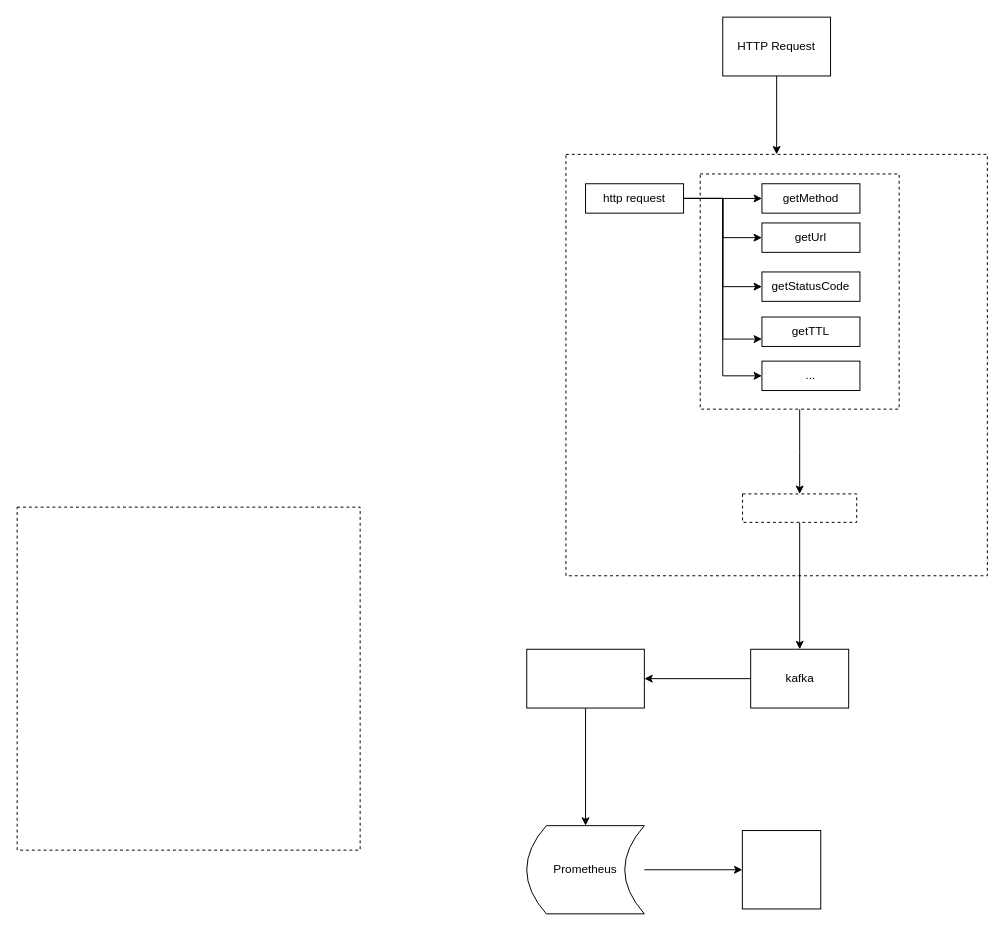
This 1005x931 diagram has some shape labels left out. Each missing label, with the centre of its shape:
"Grafana" goes at point (781, 869).
"json" goes at point (799, 507).
"push getway" goes at point (585, 678).
